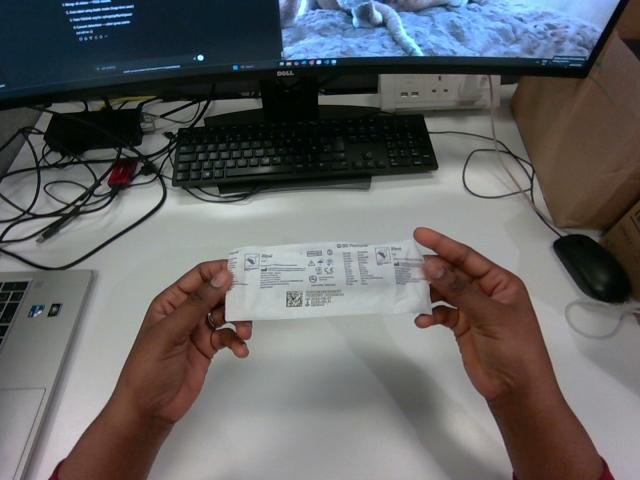syringe: (225, 240, 430, 320)
